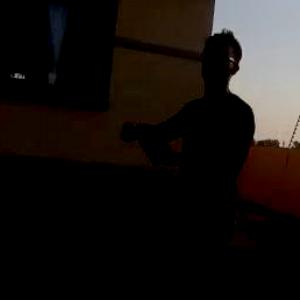follow: (112, 22, 255, 299)
